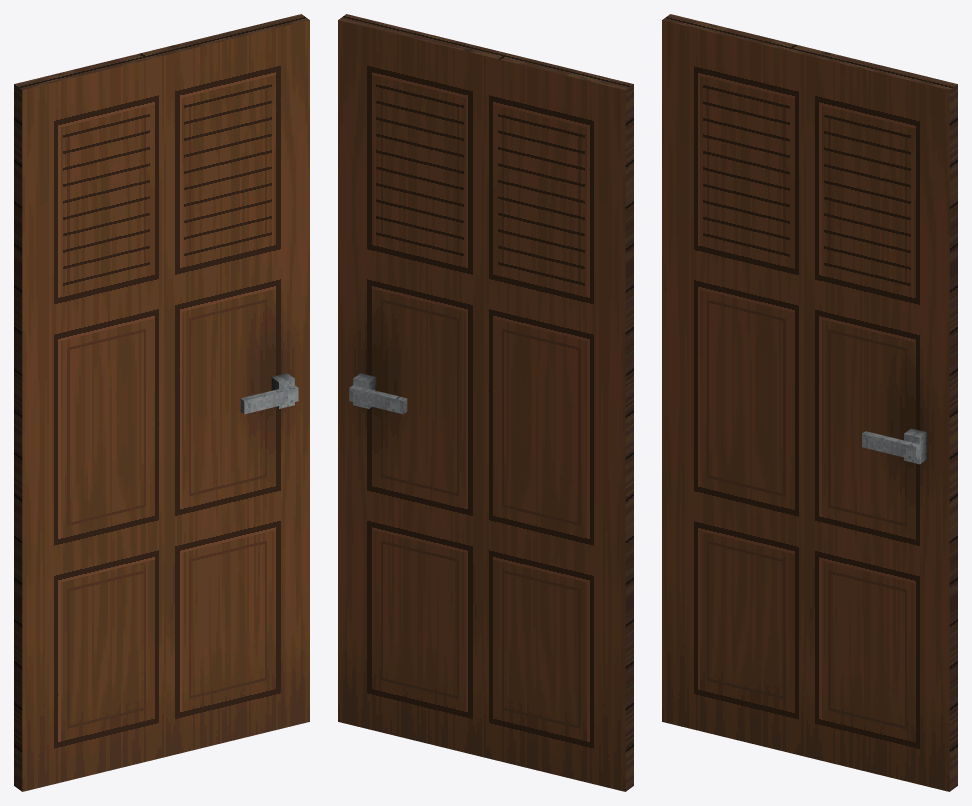
Rendered from door_wood.glb.
3 renders of one model, left to right at view 1: azimuth 30°, elevation 25°; view 2: azimuth 150°, elevation 25°; view 3: azimuth 330°, elevation 25°, orthographic.
Visible parts, largest first — view 1: door_wood_door_wood, door_wood_wood_dark, door_wood_metal_alu; view 2: door_wood_door_wood, door_wood_wood_dark, door_wood_metal_alu; view 3: door_wood_door_wood, door_wood_wood_dark, door_wood_metal_alu.
Part boxes in pixels (<box>): door_wood_door_wood: <box>22,20,309,791</box>; door_wood_wood_dark: <box>14,14,309,791</box>; door_wood_metal_alu: <box>240,373,298,414</box>; door_wood_door_wood: <box>338,20,625,791</box>; door_wood_wood_dark: <box>338,14,633,791</box>; door_wood_metal_alu: <box>349,373,407,414</box>; door_wood_door_wood: <box>662,20,949,791</box>; door_wood_wood_dark: <box>662,14,957,791</box>; door_wood_metal_alu: <box>862,428,927,464</box>.
Size of what is drawn, in the model's own units: 0.9 by 2.1 by 0.165.
Materials: 3 (3 with a texture image).
